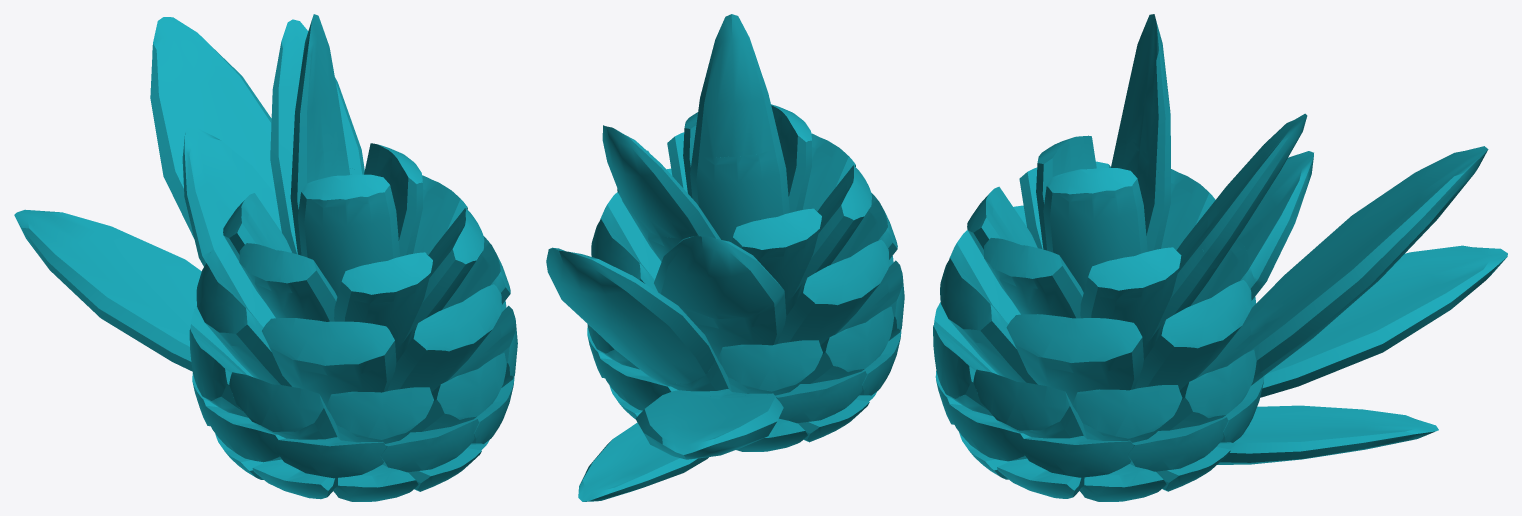
Rendered from agave_compressed.glb.
3 renders of one model, left to right at view 1: azimuth 30°, elevation 25°; view 2: azimuth 150°, elevation 25°; view 3: azimuth 270°, elevation 25°, orthographic. The views are drawn at different scales.
Visible parts, largest first — view 1: agave-04.001, agave-05.001, agave-03.001, foglia-agave-02, agave-06.001, foglia-agave-03, agave-02.001, foglia-agave-04, agave-01.001, foglia-agave-06, foglia-agave-05; view 2: agave-04.001, agave-05.001, foglia-agave-03, agave-03.001, agave-06.001, foglia-agave-06, foglia-agave-04, foglia-agave-02, agave-02.001, foglia-agave-05, foglia-agave-01, agave-01.001; view 3: agave-04.001, agave-05.001, agave-03.001, foglia-agave-03, agave-06.001, foglia-agave-02, agave-02.001, foglia-agave-01, agave-01.001, foglia-agave-06, foglia-agave-05, foglia-agave-04.
Part boxes in pixels (box(x1,y1,x2,y2)): agave-04.001: box(196, 211, 510, 407); agave-05.001: box(223, 168, 484, 351); agave-03.001: box(189, 301, 517, 443); foglia-agave-02: box(14, 209, 201, 371); agave-06.001: box(290, 143, 422, 296); foglia-agave-03: box(150, 17, 275, 238); agave-02.001: box(192, 373, 514, 478); foglia-agave-04: box(182, 127, 278, 266); agave-01.001: box(215, 434, 489, 501); foglia-agave-06: box(292, 14, 345, 170); foglia-agave-05: box(270, 19, 364, 184); agave-04.001: box(591, 168, 897, 359); agave-05.001: box(617, 132, 871, 305); foglia-agave-03: box(546, 247, 715, 383); agave-03.001: box(587, 256, 904, 395); agave-06.001: box(683, 104, 811, 242); foglia-agave-06: box(693, 14, 779, 157); foglia-agave-04: box(654, 235, 784, 319); foglia-agave-02: box(635, 392, 783, 459); agave-02.001: box(587, 327, 901, 423); foglia-agave-05: box(602, 125, 707, 238); foglia-agave-01: box(578, 422, 708, 501); agave-01.001: box(609, 385, 876, 451); agave-04.001: box(940, 205, 1259, 405); agave-05.001: box(967, 161, 1225, 348); agave-03.001: box(933, 297, 1265, 442); foglia-agave-03: box(1257, 146, 1488, 376); agave-06.001: box(1036, 135, 1170, 292); foglia-agave-02: box(1260, 245, 1507, 397); agave-02.001: box(935, 371, 1264, 477); foglia-agave-01: box(1217, 405, 1438, 464); agave-01.001: box(959, 432, 1238, 501); foglia-agave-06: box(1117, 14, 1170, 177); foglia-agave-05: box(1201, 113, 1307, 259); foglia-agave-04: box(1238, 151, 1313, 289).
Size of the model in its own units: 0.8399 by 1.17 by 1.39.
